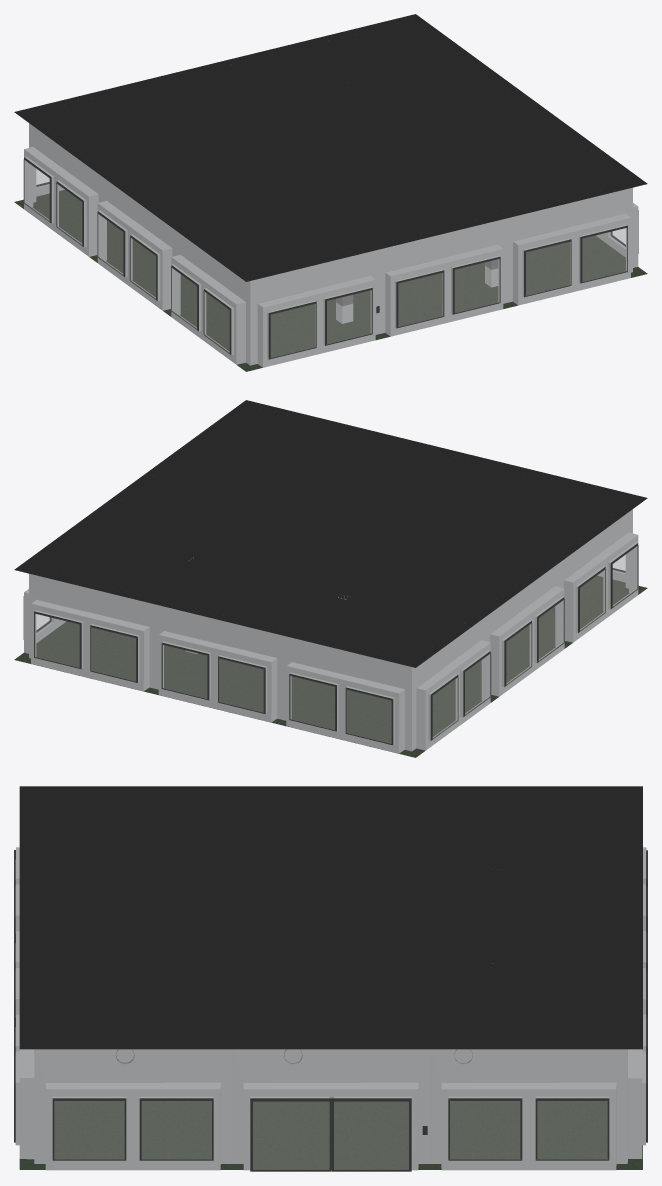
The model's file is office-studio.glb.
3 views of the same model, one above another, from view 1: azimuth 30°, elevation 25°; view 2: azimuth 150°, elevation 25°; view 3: azimuth 270°, elevation 25° (orthographic). The views are drawn at different scales.
Visible parts, largest first — view 1: Plane.061, Cube.001, Cube.004, Plane.001, Cube.002; view 2: Plane.061, Cube.003, Cube.004, Plane.001, Cube.002; view 3: Plane.061, Cube.002, Plane.001, Cube.005, Cube.001, Cube.003.
Boxes of the visible parts, x1,y1,x2,y2 form: Plane.061: (14, 14, 647, 281); Cube.001: (250, 187, 632, 367); Cube.004: (23, 123, 250, 365); Plane.001: (14, 190, 647, 371); Cube.002: (596, 203, 638, 267); Plane.061: (14, 400, 647, 667); Cube.003: (29, 573, 411, 753); Cube.004: (412, 509, 638, 751); Plane.001: (14, 575, 647, 757); Cube.002: (23, 589, 65, 653); Plane.061: (19, 786, 642, 1049); Cube.002: (34, 1049, 627, 1171); Plane.001: (19, 1098, 642, 1169); Cube.005: (250, 1098, 411, 1171); Cube.001: (14, 847, 34, 1159); Cube.003: (627, 847, 647, 1161).
Size of the model in its own units: 20.26 by 4.38 by 20.26.
Materials: 3 (2 with a texture image).
